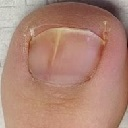Nail Fungal Infection: (31, 25, 104, 73)
